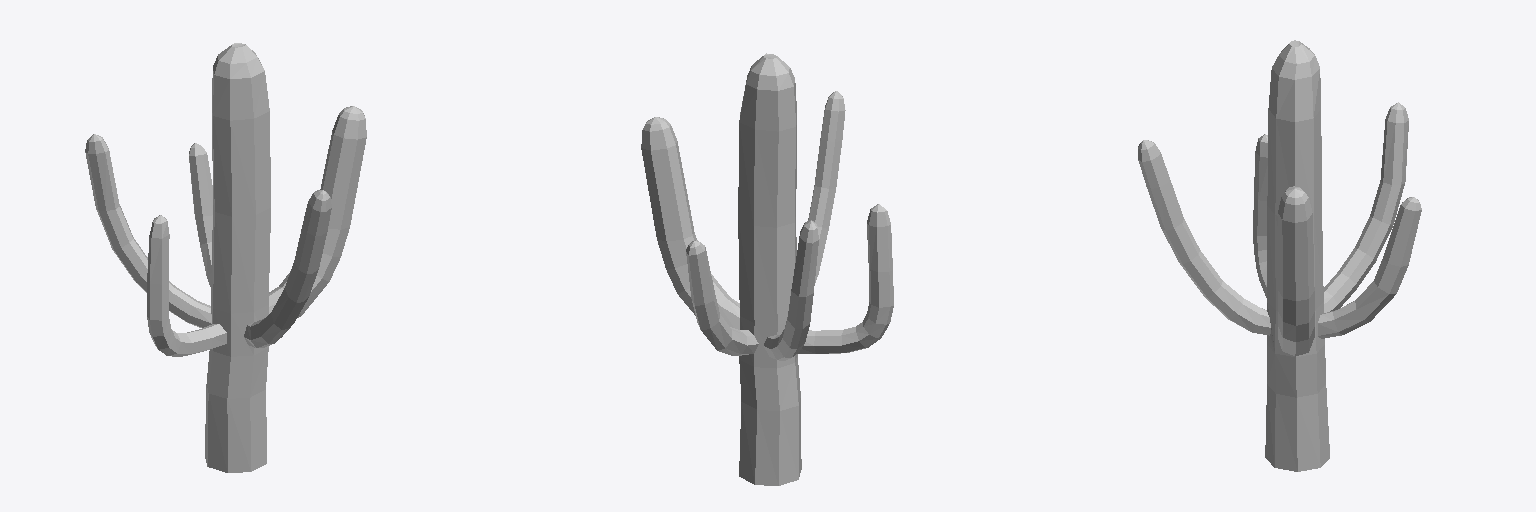
File: Cactus6.obj
The picture shows the model from 3 angles: view 1: azimuth 30°, elevation 25°; view 2: azimuth 150°, elevation 25°; view 3: azimuth 270°, elevation 25°; orthographic projection.
Visible parts, largest first — view 1: cactus_6; view 2: cactus_6; view 3: cactus_6.
Boxes of the visible parts, <box> form: cactus_6: <box>85,43,366,472</box>; cactus_6: <box>641,53,893,485</box>; cactus_6: <box>1138,40,1421,471</box>.
Bounding box in the file's own units: 190 × 325 × 201.